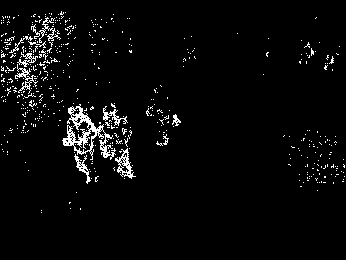person: (62, 106, 98, 184), (99, 104, 134, 179), (148, 85, 181, 147)
